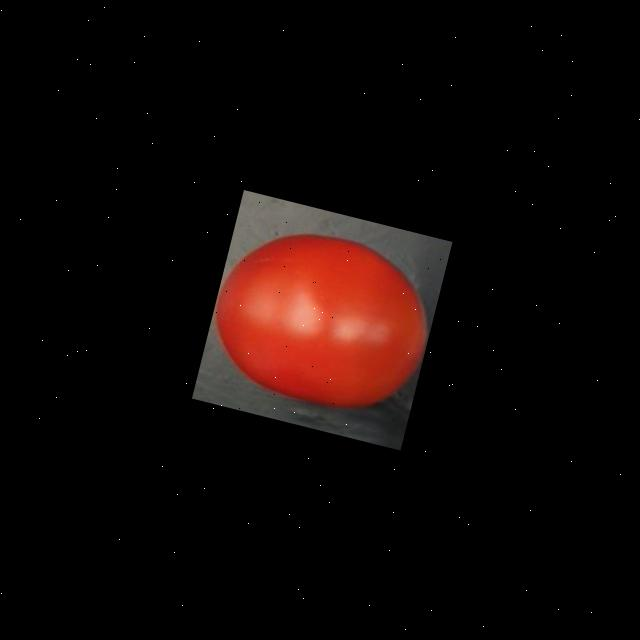tomato: (195, 207, 446, 430)
